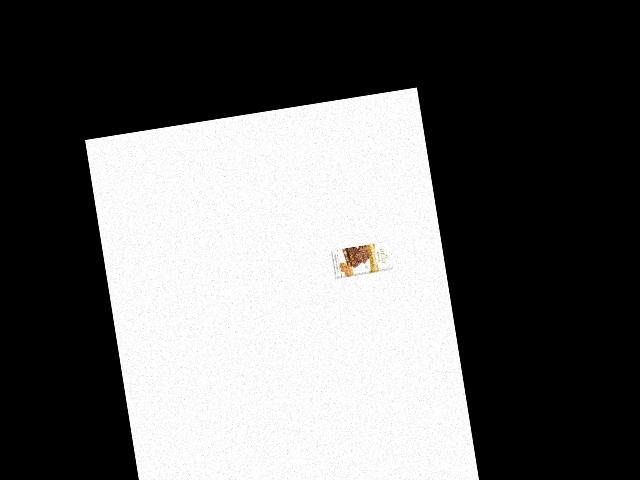chocolate: (329, 239, 396, 280)
